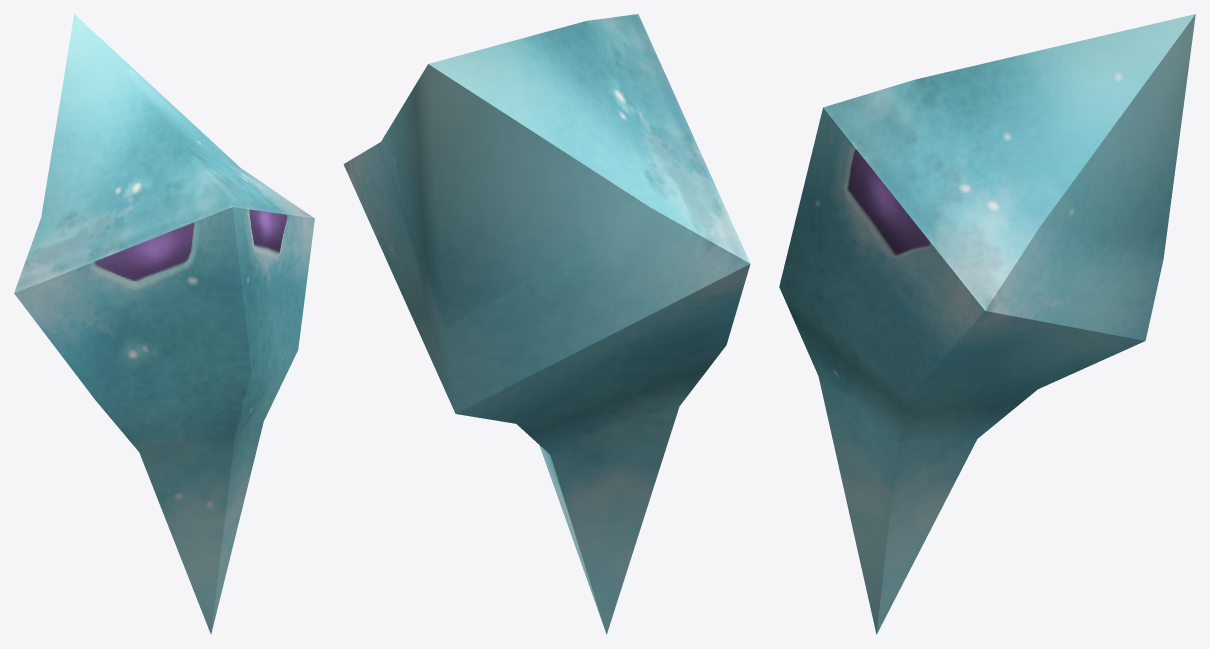
File: iceDiamond_mesh.fbx
The picture shows the model from 3 angles, left to right: view 1: azimuth 30°, elevation 25°; view 2: azimuth 150°, elevation 25°; view 3: azimuth 270°, elevation 25°; orthographic projection. The views are drawn at different scales.
Visible parts, largest first — view 1: diamond; view 2: diamond; view 3: diamond.
Boxes of the visible parts, x1=… form: diamond: x1=14, y1=14, x2=314, y2=634; diamond: x1=343, y1=14, x2=750, y2=634; diamond: x1=779, y1=14, x2=1195, y2=634.
Bounding box in the file's own units: 82.17 × 136 × 82.94.
1 material, 1 textured.
